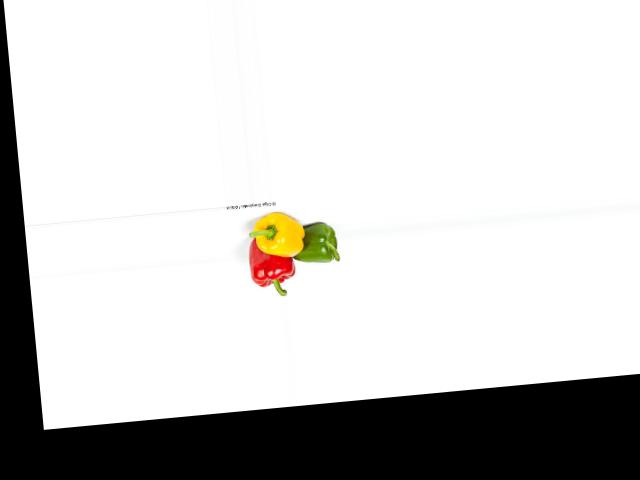bell_pepper: (243, 237, 298, 298)
